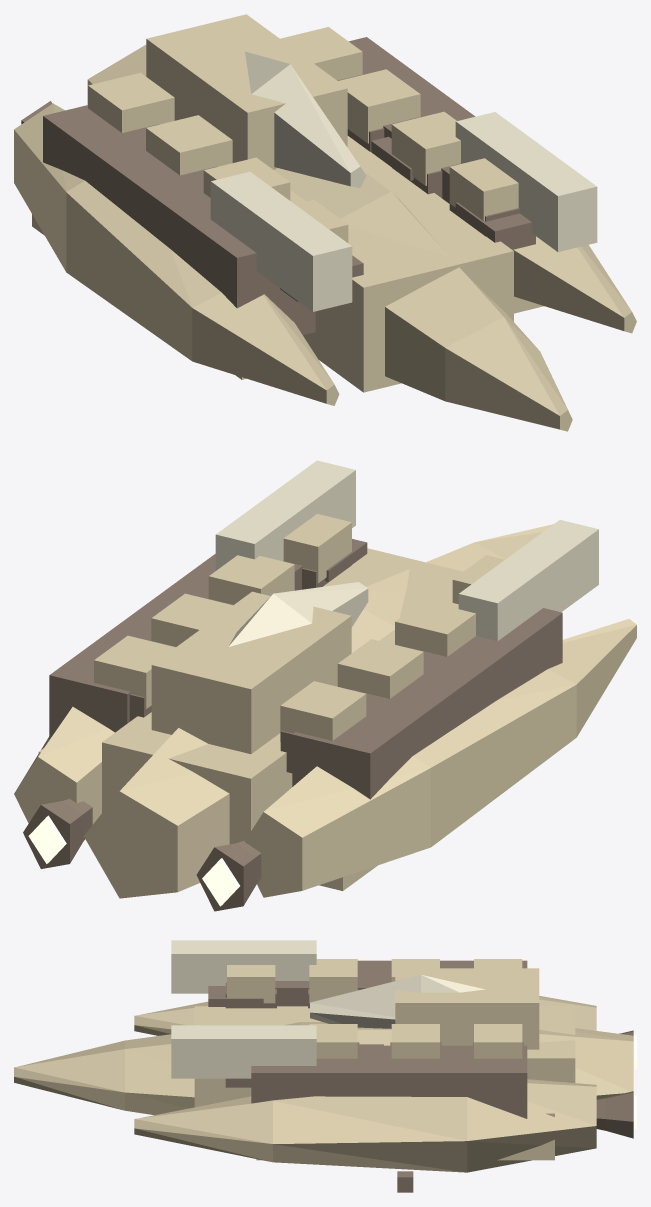
3 views of the same model, one above another, from view 1: azimuth 30°, elevation 25°; view 2: azimuth 150°, elevation 25°; view 3: azimuth 270°, elevation 25° (orthographic). The views are drawn at different scales.
Bounding box in the file's own units: 12.53 × 6.87 × 24.22.
